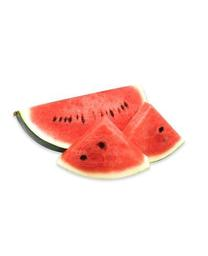watermelon: (13, 84, 184, 175)
